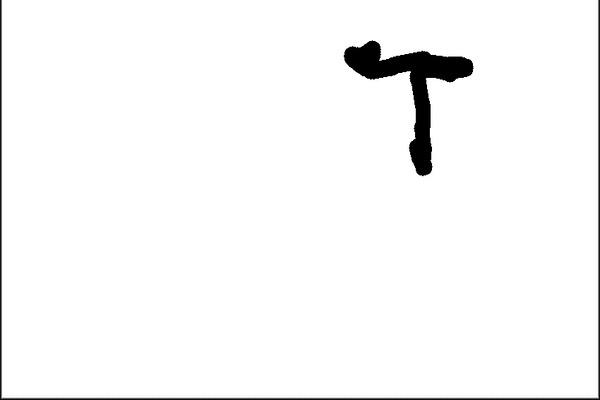T: (331, 32, 476, 184)
